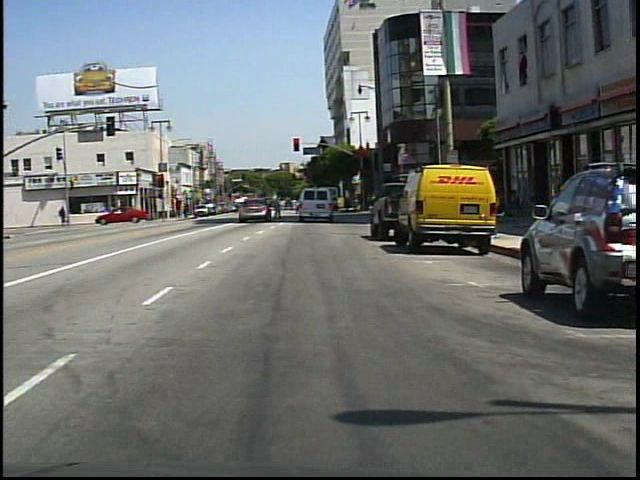person: (503, 183, 527, 225), (270, 191, 288, 222), (59, 206, 66, 226)
